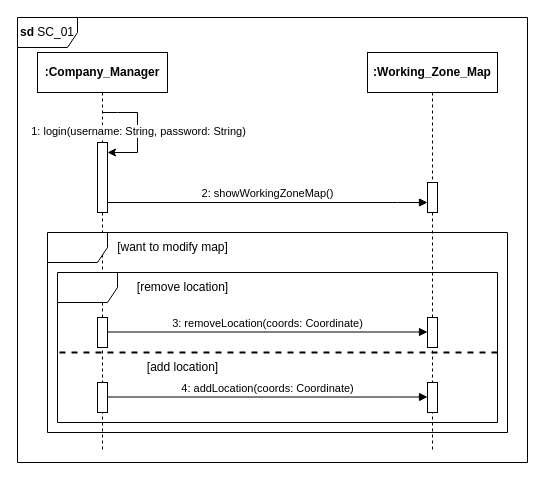
Image size: 545x480. Some labels were removed from this diagram. Each missing label, with the box of its shape:
seq alt: (56, 272, 498, 422)
seq opt: (46, 232, 508, 432)
